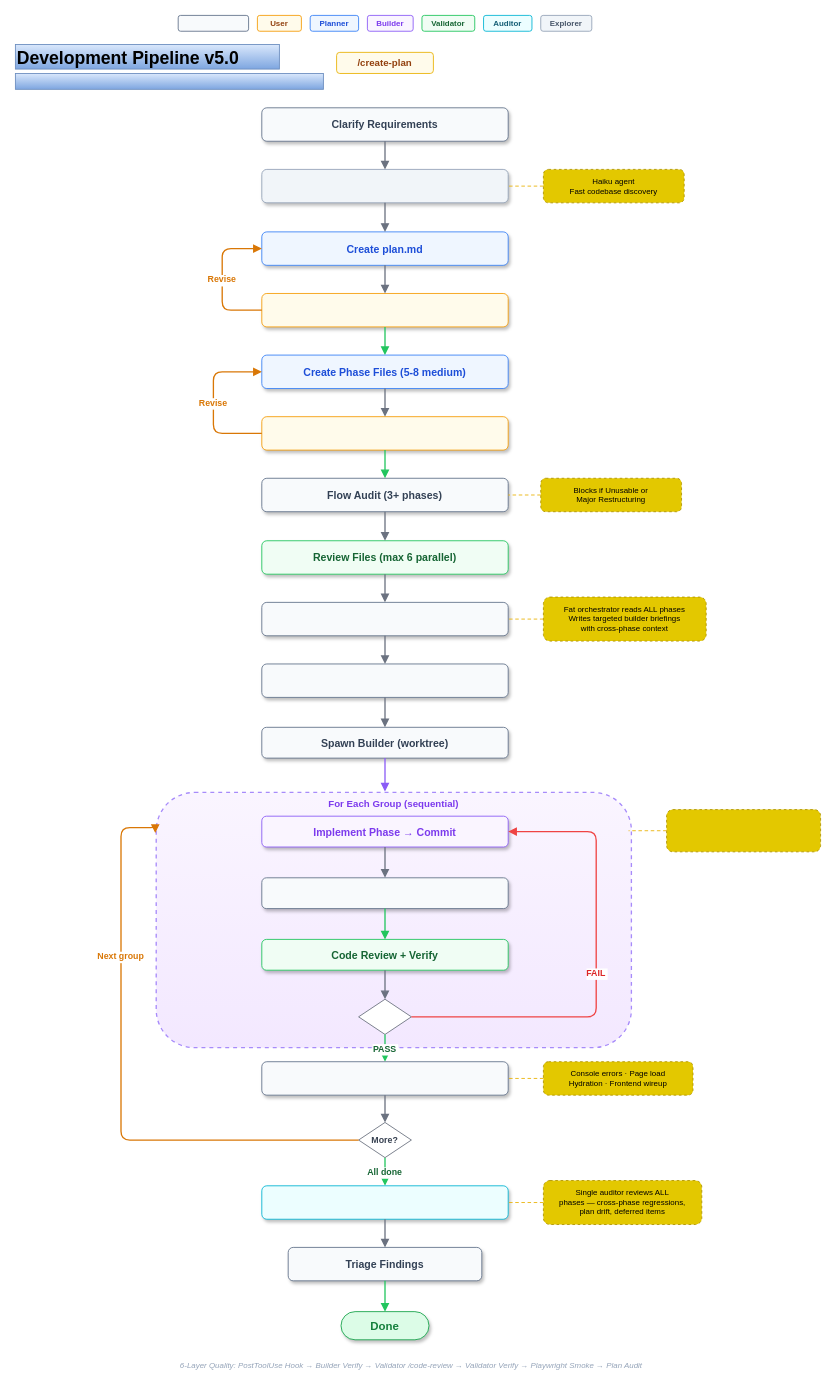
This 836x1386 diagram has some shape labels left out. The centre of each missing label's shape, as x and y in pixels:
"1M Context · Fat Orchestrator · Plan-Level Auditing" belongs at [169,81].
"Approve Phases" belongs at [385,434].
"Approve Plan Summary" belongs at [385,311].
"Explore Codebase" belongs at [385,187].
"Gate Check Reviews" belongs at [385,682].
"Merge Worktree Branch" belongs at [385,894].
"One builder per group Persistent — accumulates context across all phases" belongs at [743,830].
"Orchestrator" belongs at [213,23].
"Plan-Level Audit" belongs at [385,1203].
"Playwright Smoke Check" belongs at [385,1079].
"Read Full Plan + All Phases" belongs at [385,620].
"Verdict" belongs at [384,1016].
